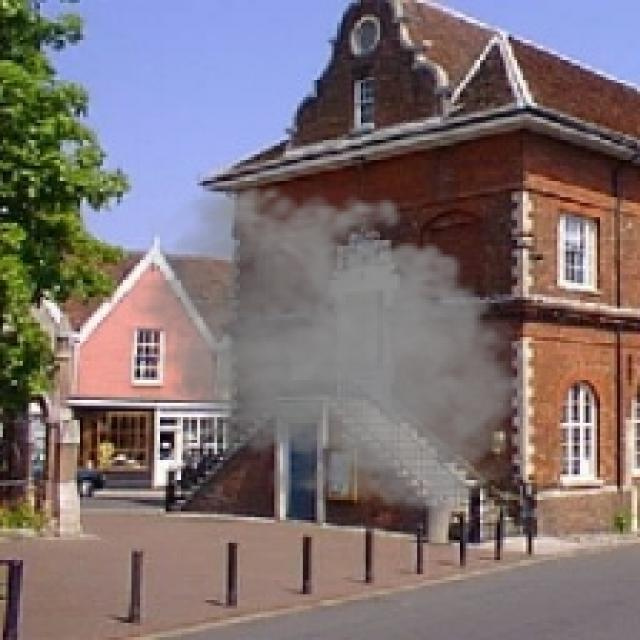Smoke: (115, 174, 540, 517)
